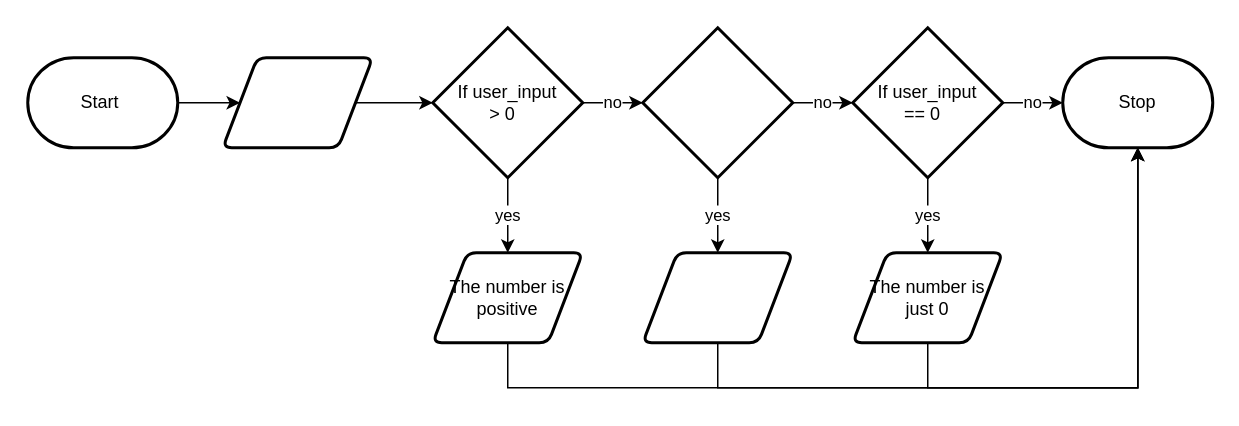
The diagram is 1239 pixels wide and 426 high, and some of its shapes have lost their labels. Here are the shapes that lost their labels. From the top down, the centre of each, then its label:
At point (297, 102): "Get user input".
At point (717, 102): "If user_input < 0".
At point (717, 297): "The number is negative".
